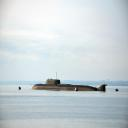submarine: (32, 80, 114, 92)
